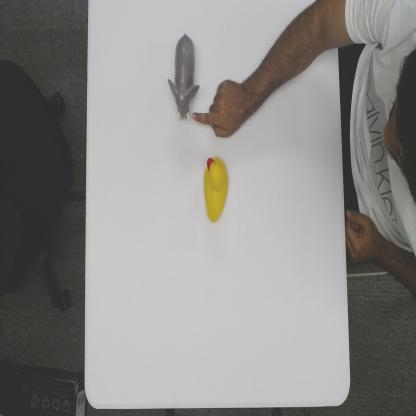Arm: (251, 2, 337, 100)
Duck: (203, 153, 230, 224)
Elephant: (168, 32, 200, 124)
Hand: (192, 79, 250, 142)
